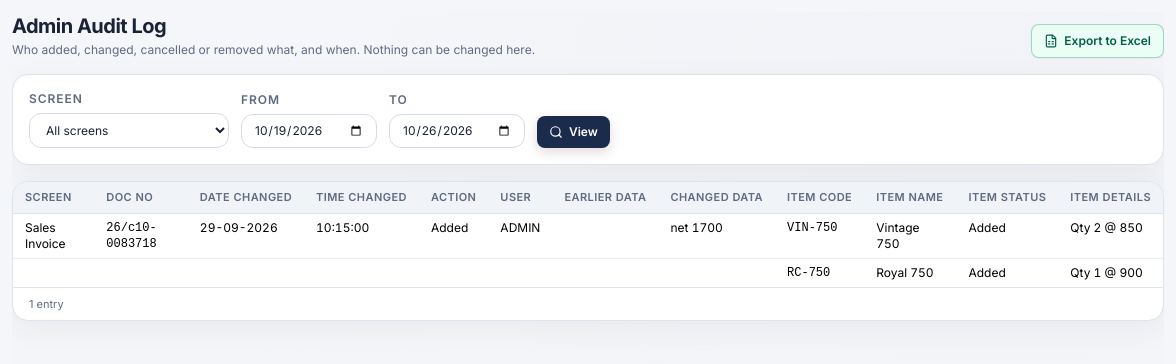
AdminAuditLog › catches a To date before the From date
Expected: the text "26/c10-0083718" is shown, [94,213,188,258]
Type "2026-09-20" into the date field labelled "From" at (309, 131), box [241,114,377,148]
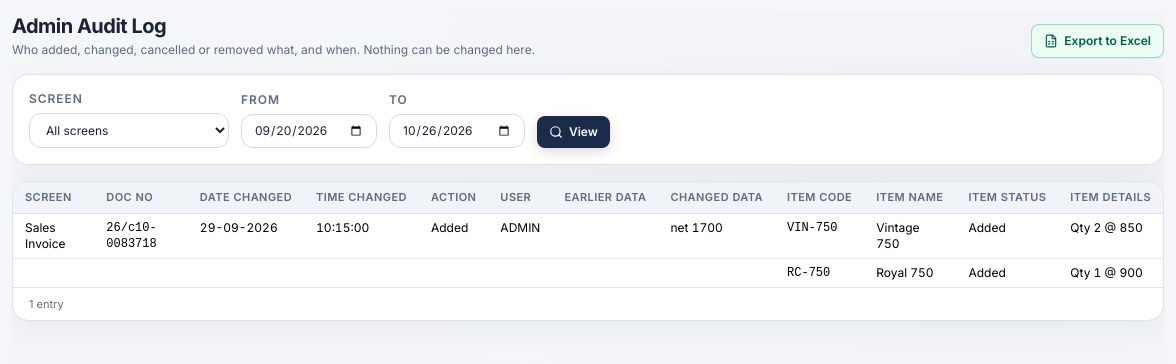
Type "2026-09-10" into the date field labelled "To" at (457, 131), box [389,114,525,148]
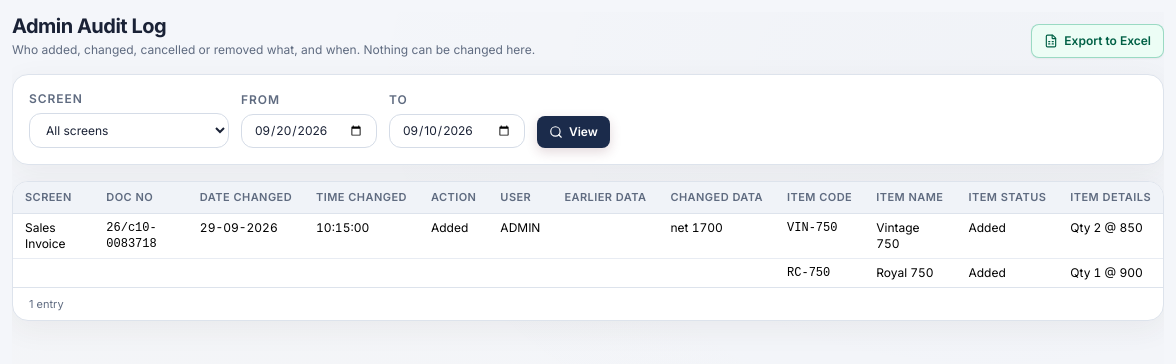
Click the button "View" at (573, 132), box [537,116,610,148]
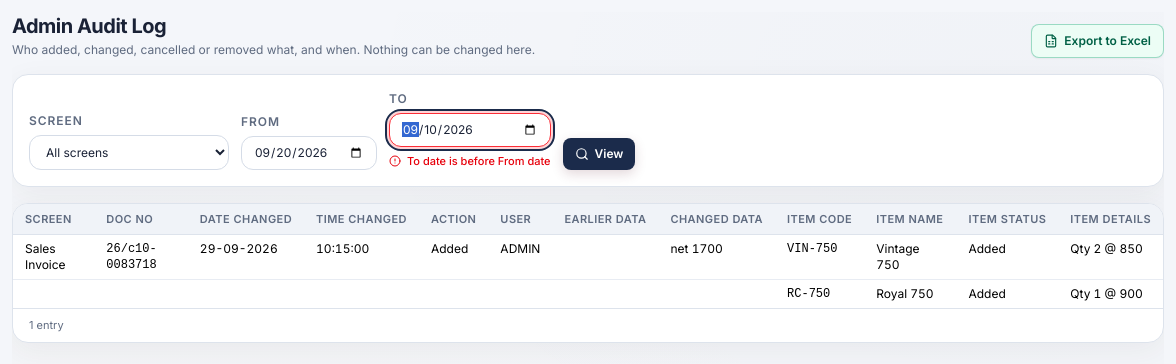
Now the text "To date is before From date" is shown, box [407,153,551,170]
